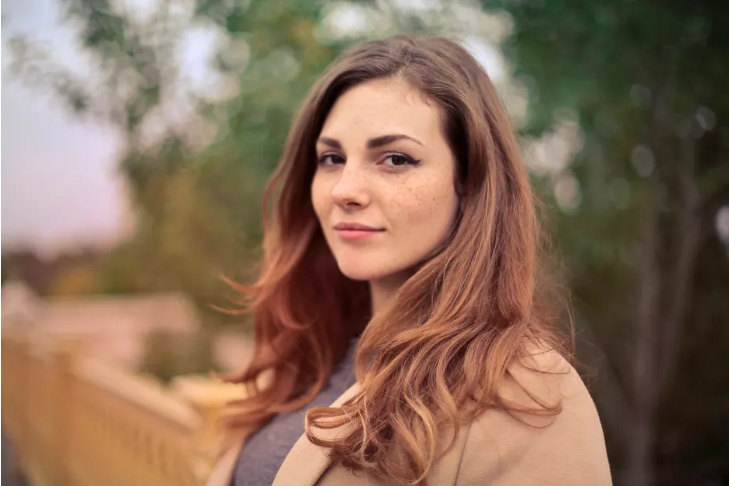face: (308, 89, 447, 277)
